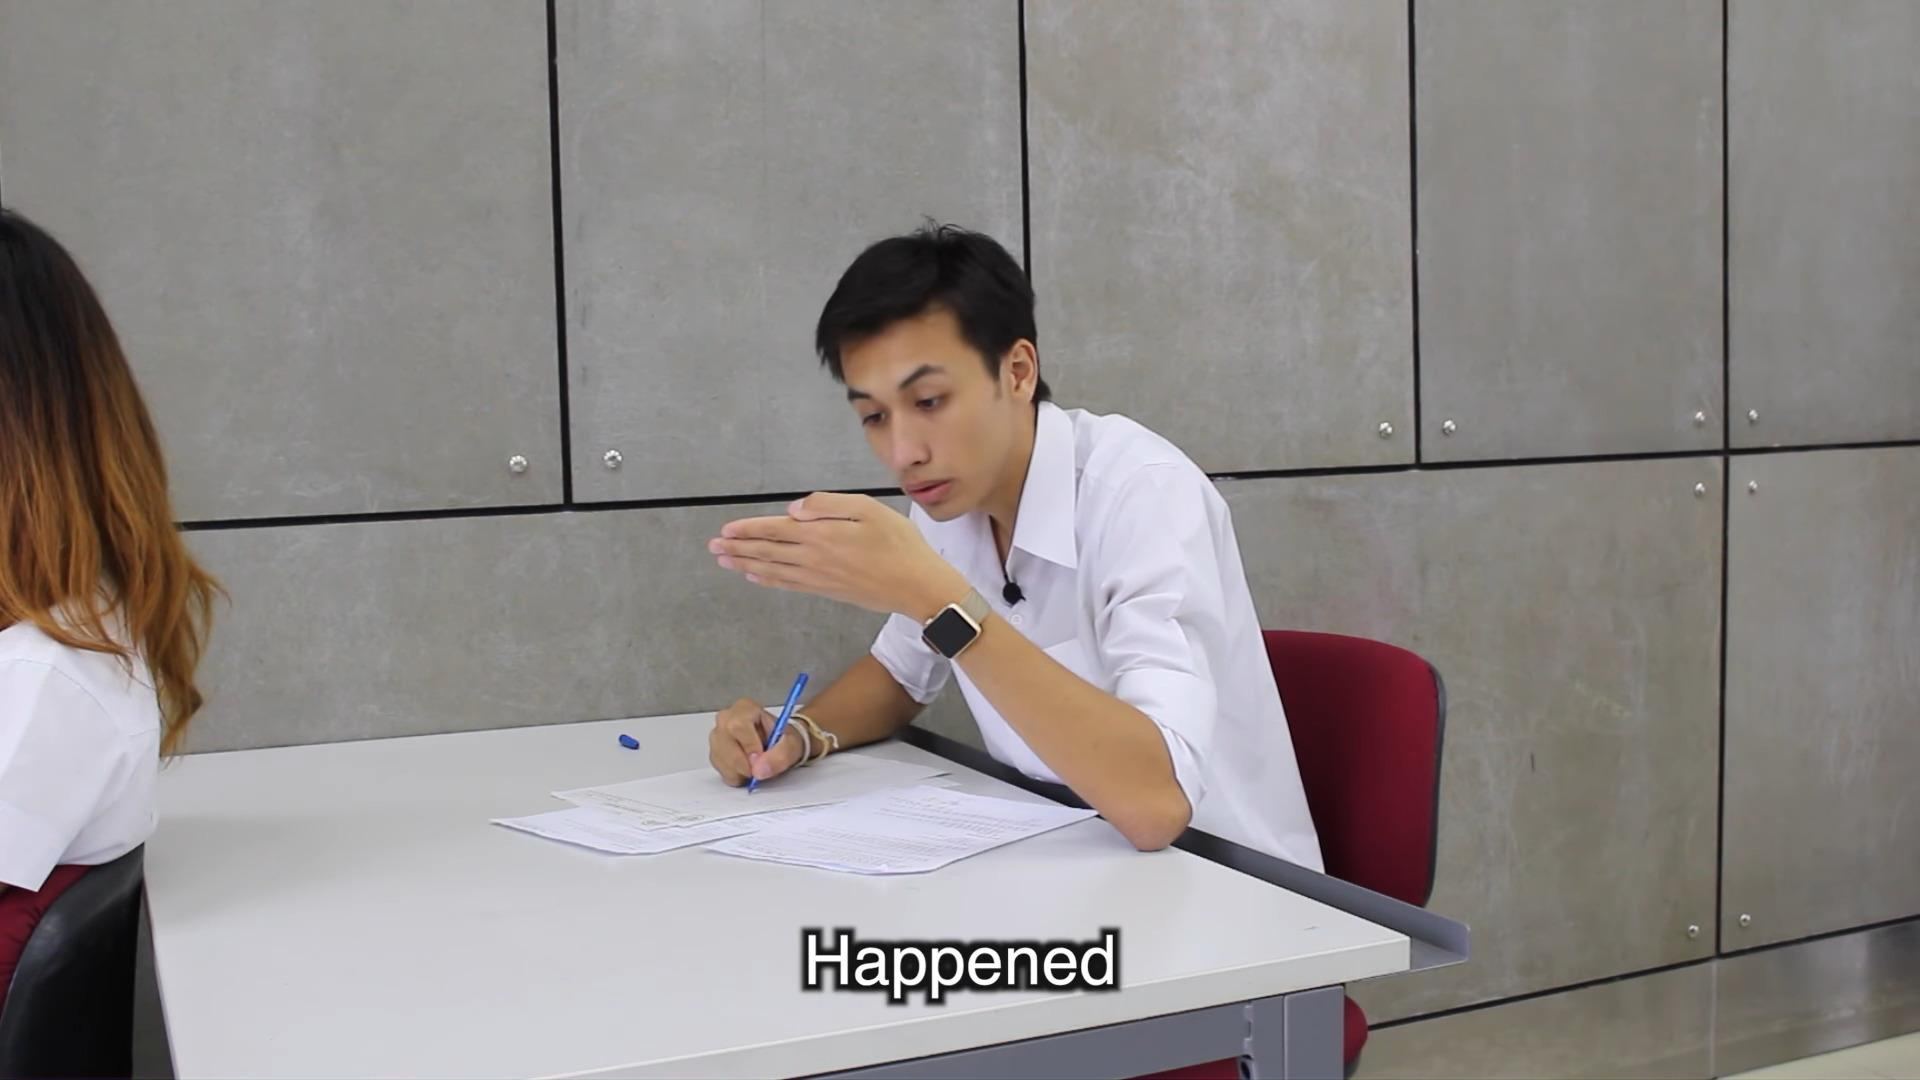cheating: (460, 220, 1348, 899)
